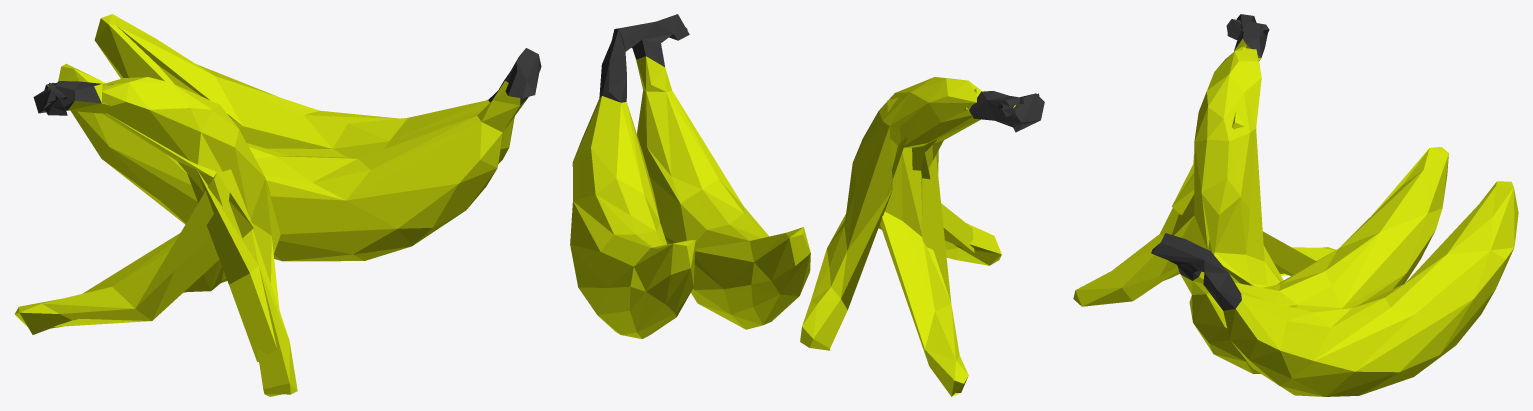
File: banana.fbx
3 renders of one model, left to right at view 1: azimuth 30°, elevation 25°; view 2: azimuth 150°, elevation 25°; view 3: azimuth 270°, elevation 25°, orthographic. The views are drawn at different scales.
Visible parts, largest first — view 1: banana.001; view 2: banana.001; view 3: banana.001.
Boxes of the visible parts, left/top/right/bottom form: banana.001: left=14, top=14, right=541, bottom=396; banana.001: left=570, top=14, right=1044, bottom=396; banana.001: left=1073, top=14, right=1518, bottom=396.
Bounding box in the file's own units: 145 × 83.47 × 137.
